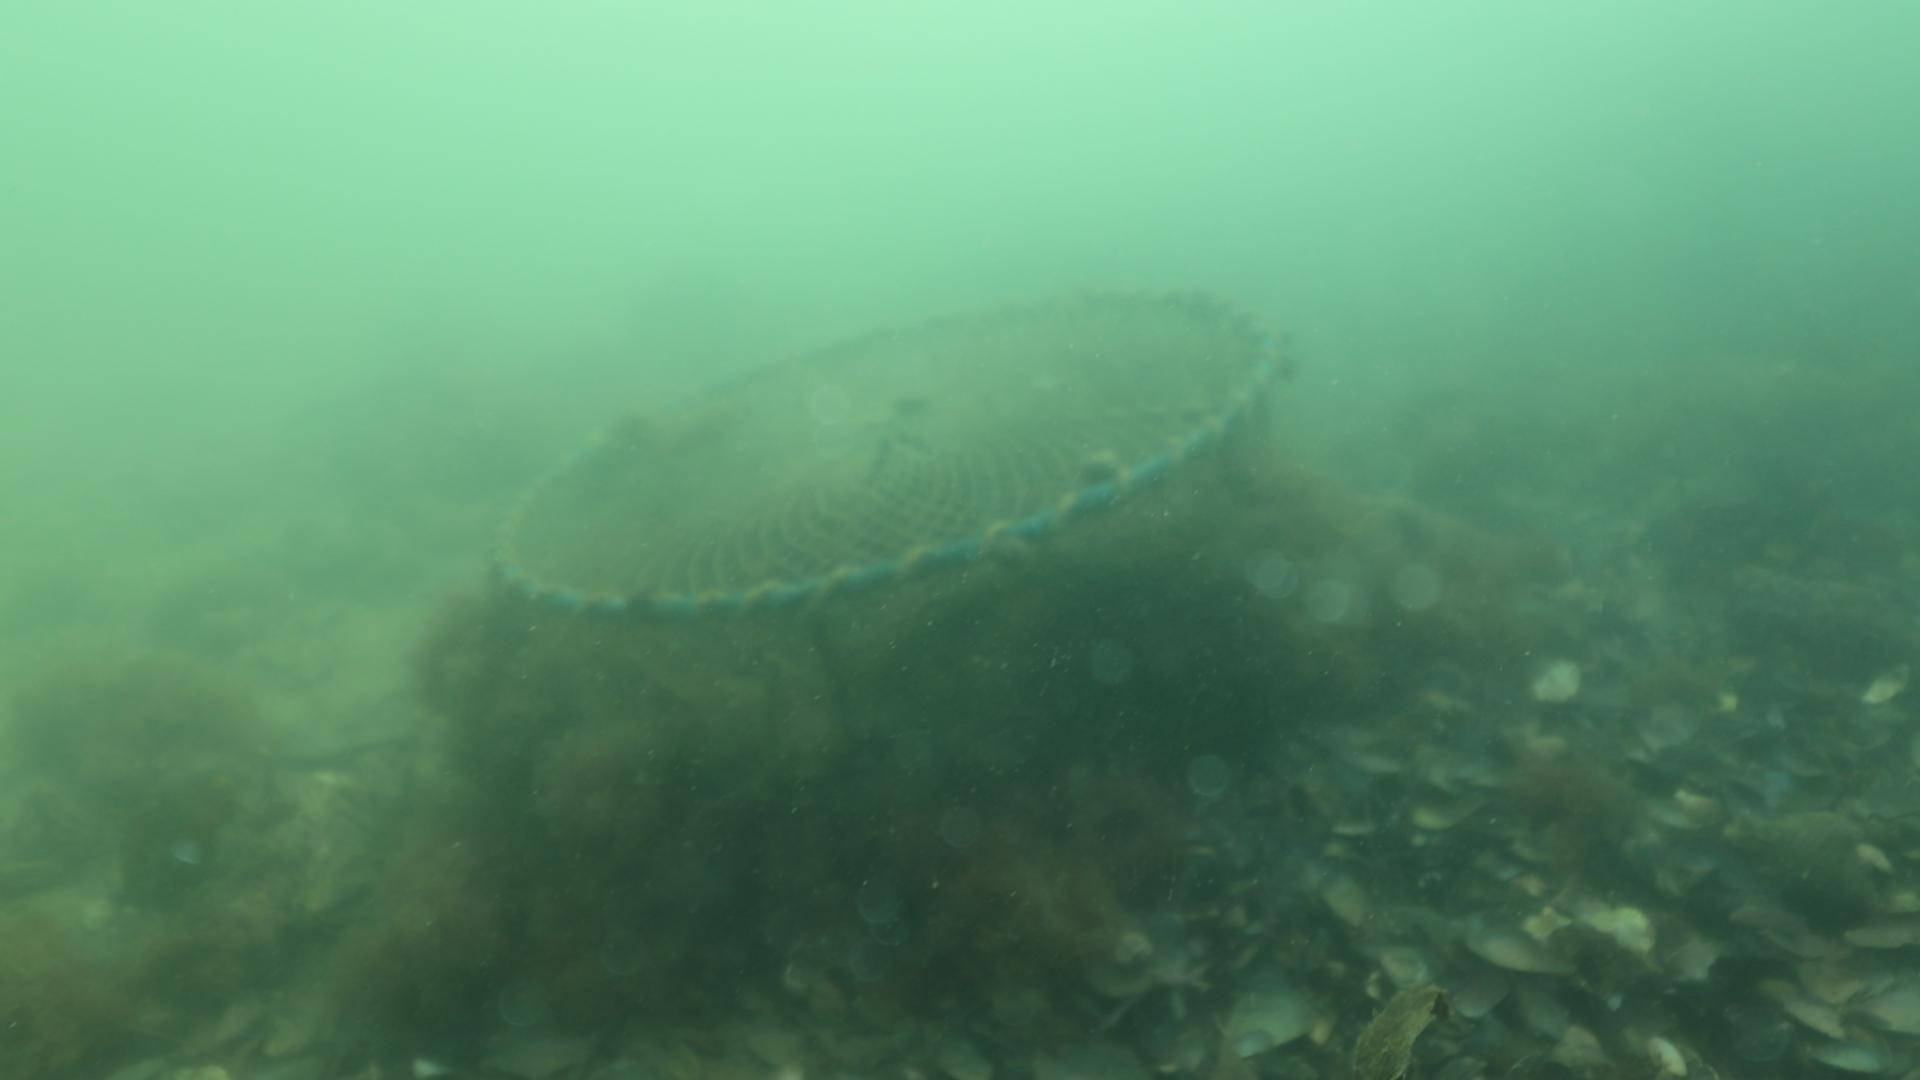circular fish trap: (484, 277, 1288, 754)
